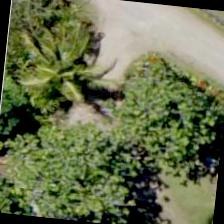Kelapa_Sawit: (3, 15, 102, 114)
